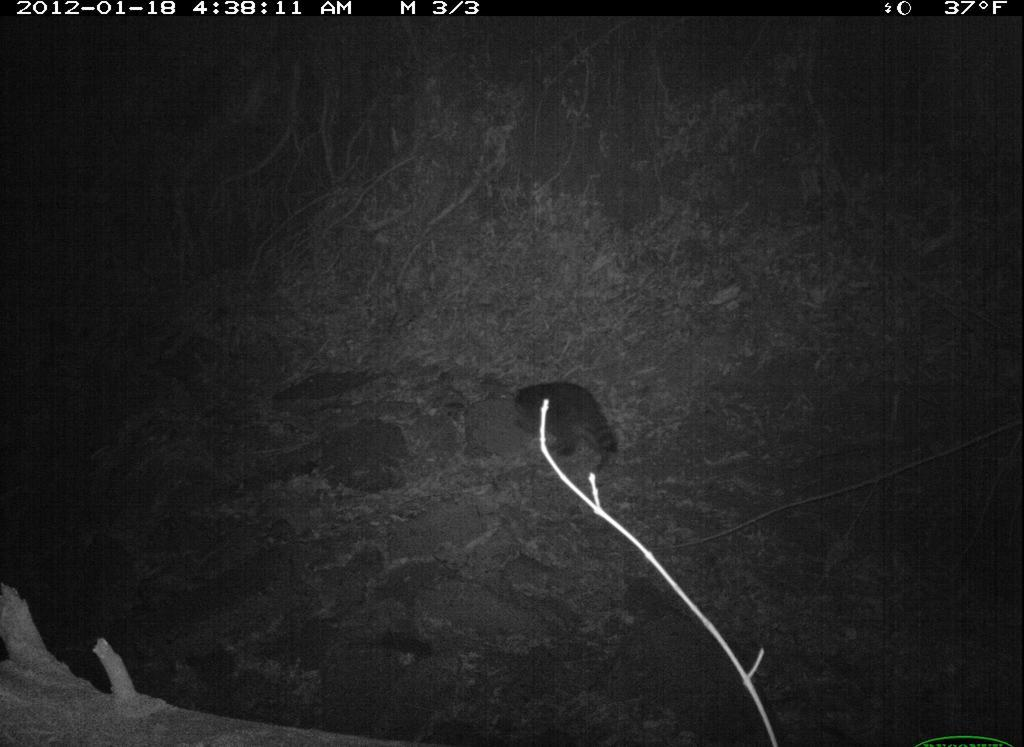raccoon: (507, 374, 633, 500)
